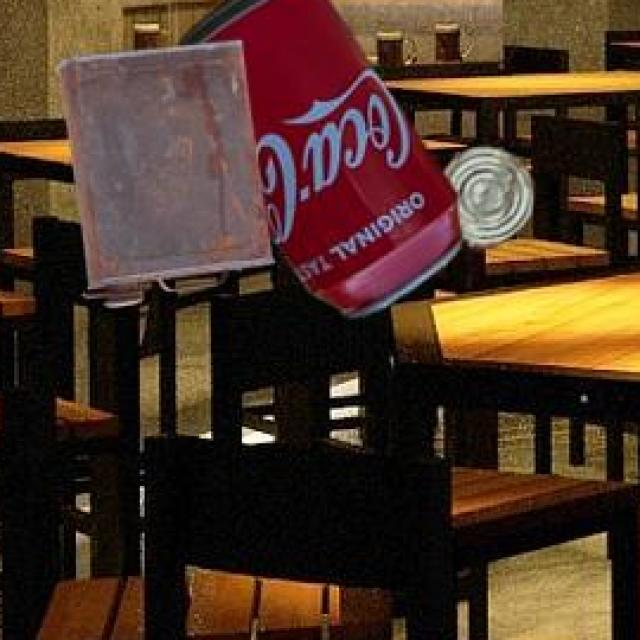logam: (177, 0, 459, 314), (53, 37, 269, 302), (440, 143, 530, 245)
